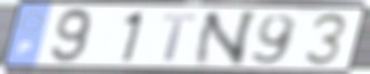1: (119, 11, 147, 64)
3: (302, 11, 349, 68)
9: (47, 6, 95, 66), (248, 12, 302, 65)
N: (189, 9, 261, 68)
T: (159, 12, 200, 63)
